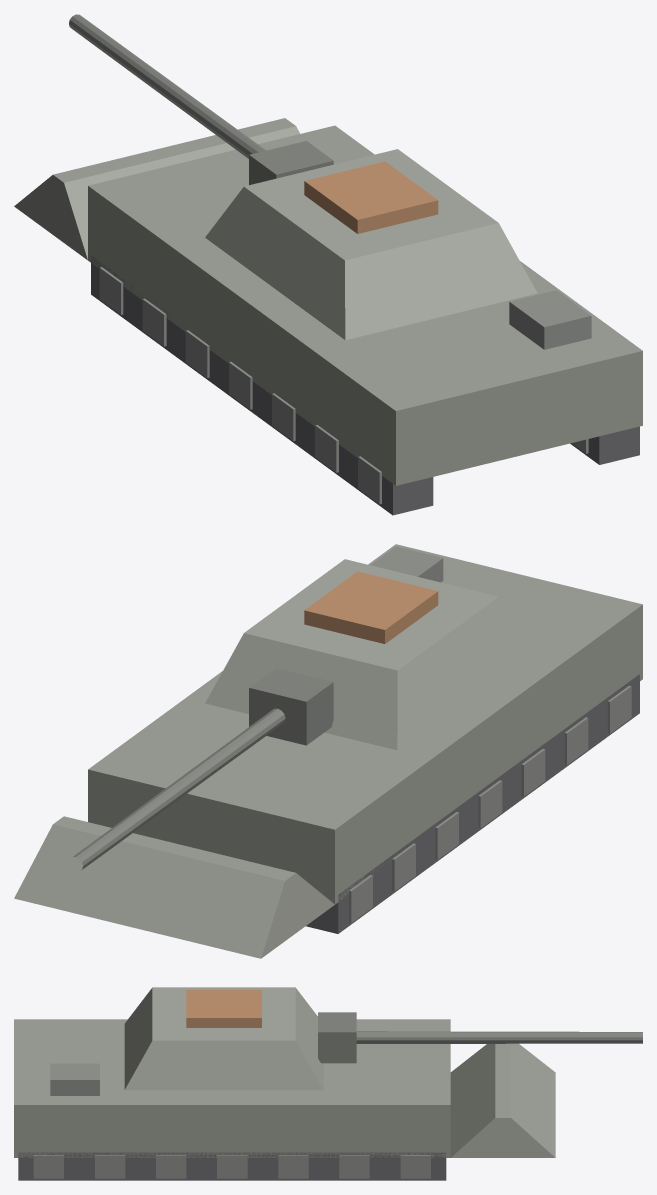
File: mbt_e4_western_hero_LOD0.glb
3 views of the same model, one above another, from view 1: azimuth 30°, elevation 25°; view 2: azimuth 150°, elevation 25°; view 3: azimuth 270°, elevation 25° (orthographic). The views are drawn at different scales.
Visible parts, largest first — view 1: mbt_e4_western_hero_LOD0_body; view 2: mbt_e4_western_hero_LOD0_body; view 3: mbt_e4_western_hero_LOD0_body.
Boxes of the visible parts, box(x1,y1,x2,y2) form: mbt_e4_western_hero_LOD0_body: box(14, 14, 642, 515); mbt_e4_western_hero_LOD0_body: box(14, 544, 642, 958); mbt_e4_western_hero_LOD0_body: box(14, 987, 642, 1180).
Bounding box in the file's own units: 3.73 × 2.67 × 11.38.
